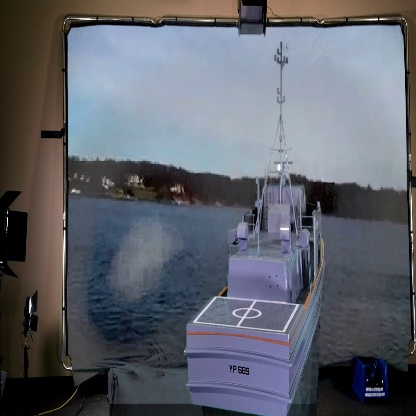YP689: (182, 37, 327, 416)
